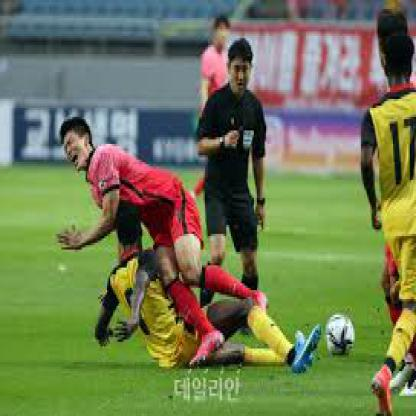Fall_Down: (58, 115, 270, 370)
